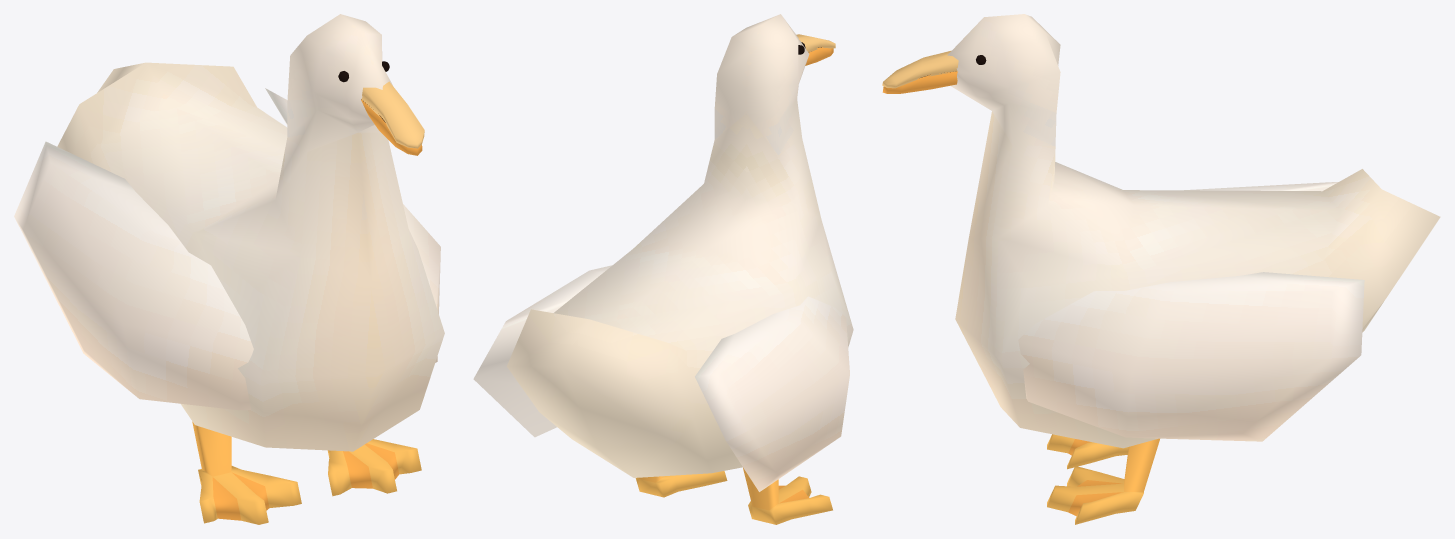
Rendered from 4duck.glb.
The picture shows the model from 3 angles, left to right: view 1: azimuth 30°, elevation 25°; view 2: azimuth 150°, elevation 25°; view 3: azimuth 270°, elevation 25°; orthographic projection. The views are drawn at different scales.
Parts seen in each view (by area): view 1: Duck_0; view 2: Duck_0; view 3: Duck_0.
Boxes of the visible parts, x1=… form: Duck_0: x1=14, y1=14, x2=444, y2=524; Duck_0: x1=473, y1=14, x2=853, y2=524; Duck_0: x1=882, y1=14, x2=1440, y2=524.
Size of the model in its own units: 0.3949 by 0.6006 by 0.6541.
1 material, 1 textured.
